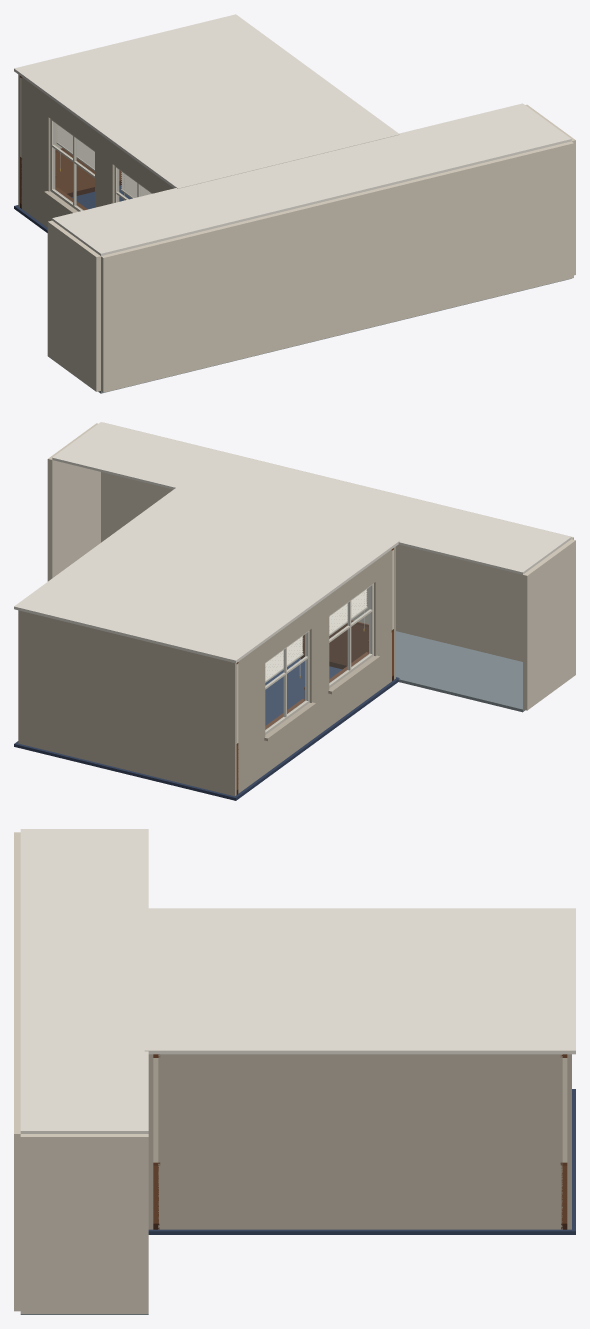
File: RmMeetingShell.fbx
3 views of the same model, one above another, from view 1: azimuth 30°, elevation 25°; view 2: azimuth 150°, elevation 25°; view 3: azimuth 270°, elevation 25° (orthographic). The views are drawn at different scales.
Parts seen in each view (by area): view 1: Corridor.001, Floor.001, Walls.001, WindowGlass.001, WindowFrame.001, Blinds.001; view 2: Corridor.001, Walls.001, Floor.001, WindowGlass.001, WindowFrame.001, Blinds.001; view 3: Walls.001, Floor.001, Corridor.001.
Part boxes in pixels (x1=…): Corridor.001: x1=47, y1=103, x2=575, y2=393; Floor.001: x1=14, y1=14, x2=399, y2=232; Walls.001: x1=18, y1=74, x2=173, y2=227; WindowGlass.001: x1=53, y1=122, x2=151, y2=210; WindowFrame.001: x1=44, y1=118, x2=152, y2=213; Blinds.001: x1=56, y1=124, x2=151, y2=200; Corridor.001: x1=47, y1=422, x2=575, y2=712; Walls.001: x1=18, y1=546, x2=395, y2=796; Floor.001: x1=14, y1=486, x2=399, y2=800; WindowGlass.001: x1=265, y1=587, x2=370, y2=730; WindowFrame.001: x1=264, y1=583, x2=380, y2=741; Blinds.001: x1=265, y1=589, x2=367, y2=682; Walls.001: x1=148, y1=1054, x2=571, y2=1229; Floor.001: x1=144, y1=908, x2=575, y2=1234; Corridor.001: x1=14, y1=829, x2=148, y2=1314.
Size of the model in its own units: 10.8 by 3.02 by 8.34.
